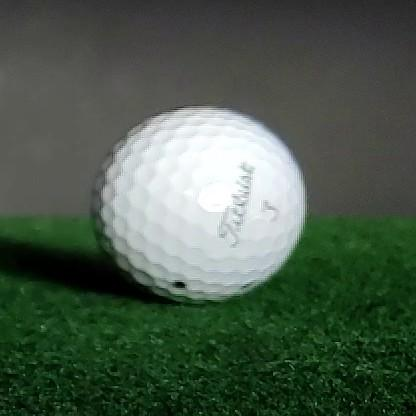golfball: (88, 104, 308, 305)
